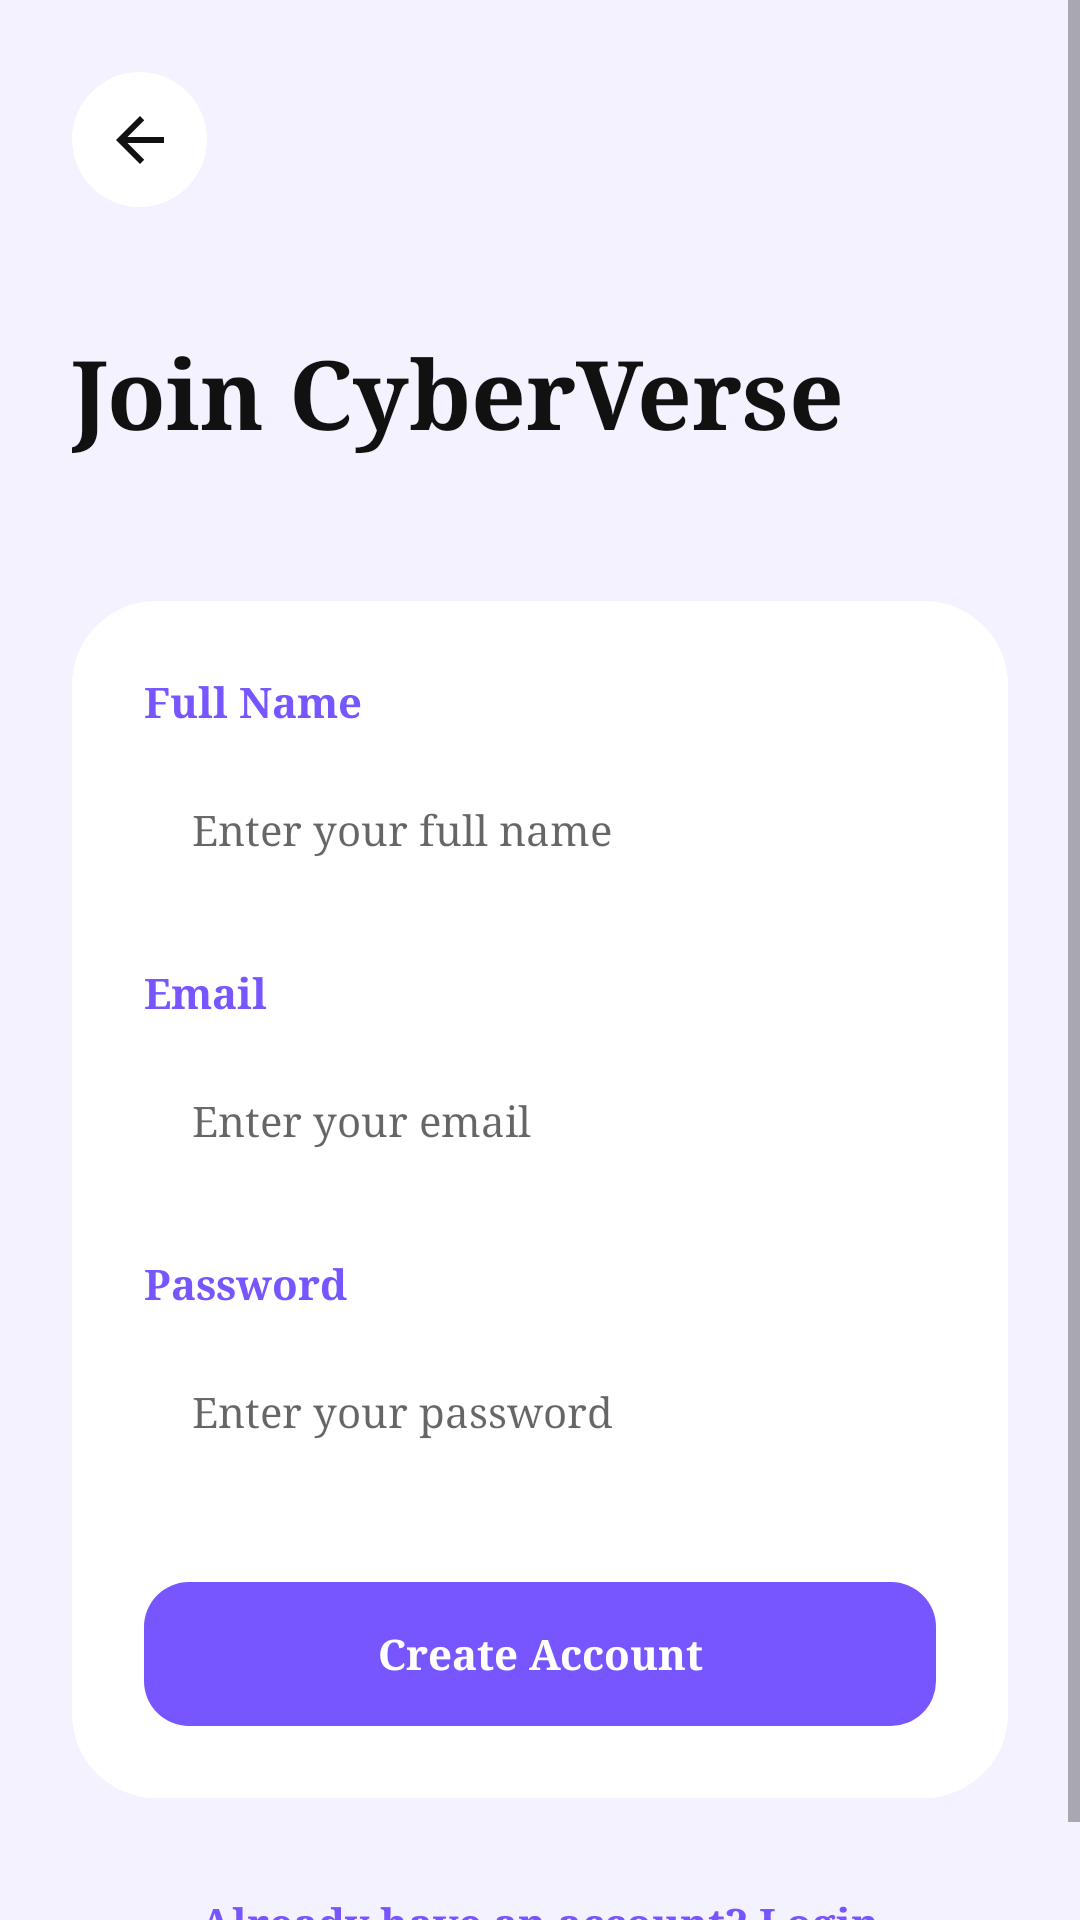

Named icons in this screenshot (1080 × 1920) and their bounding boxes, region(x1, y1, x2, y2):
Back: region(72, 72, 207, 207)
